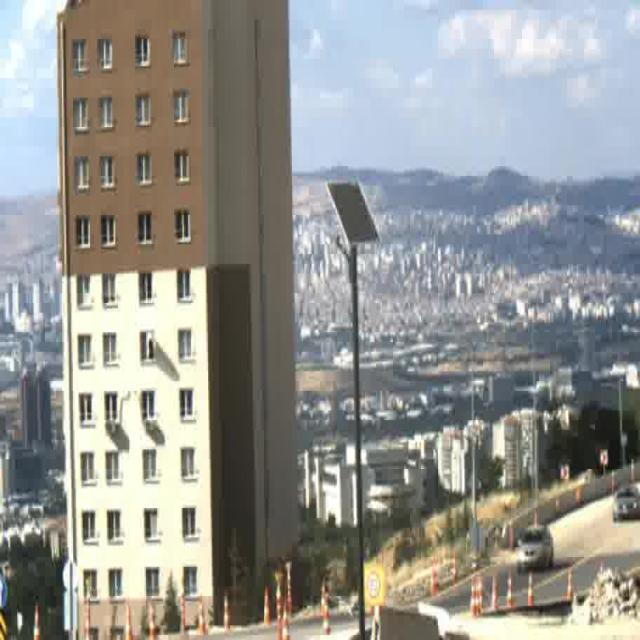Car: (516, 522, 553, 572), (612, 484, 638, 524)
